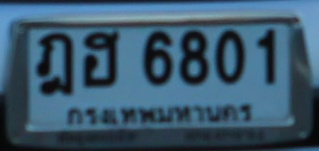txt11: (34, 31, 74, 96)
txt39: (82, 30, 119, 87)
